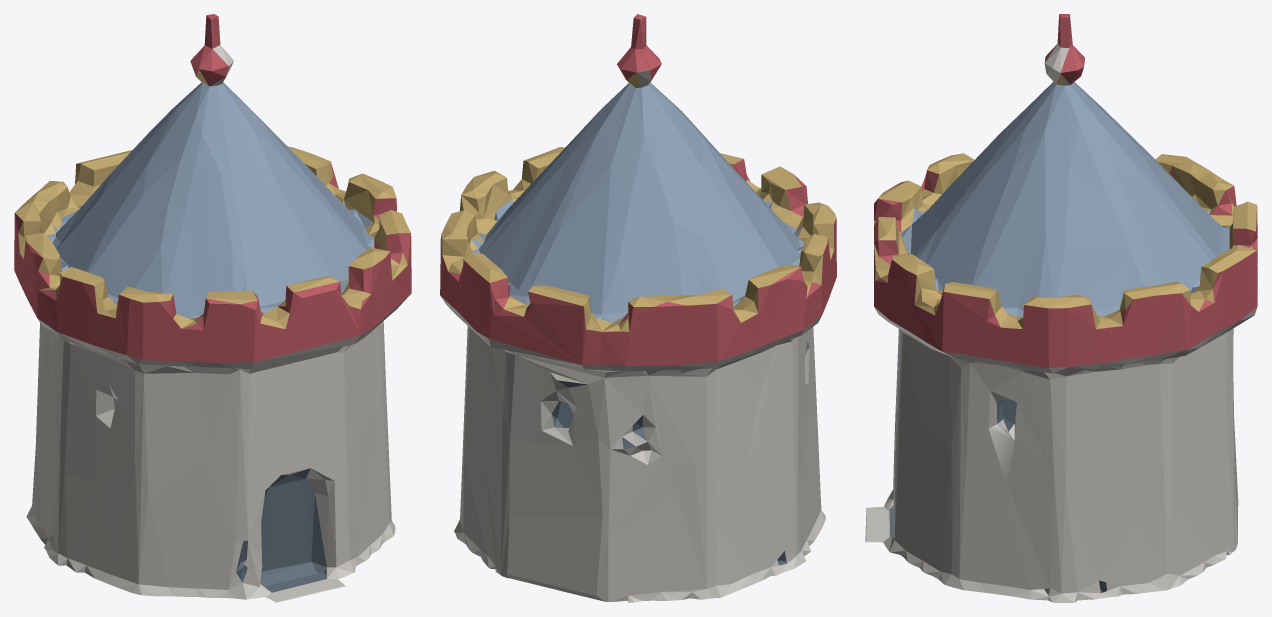
3 views of the same model, side by side, from view 1: azimuth 30°, elevation 25°; view 2: azimuth 150°, elevation 25°; view 3: azimuth 270°, elevation 25° (orthographic).
Visible parts, largest first — view 1: geometry_0; view 2: geometry_0; view 3: geometry_0.
Boxes of the visible parts, bbox=[...] form: geometry_0: bbox=[14, 14, 411, 602]; geometry_0: bbox=[440, 14, 836, 602]; geometry_0: bbox=[865, 14, 1257, 602].
Size of the model in its own units: 0.6663 by 0.9414 by 0.6571.
